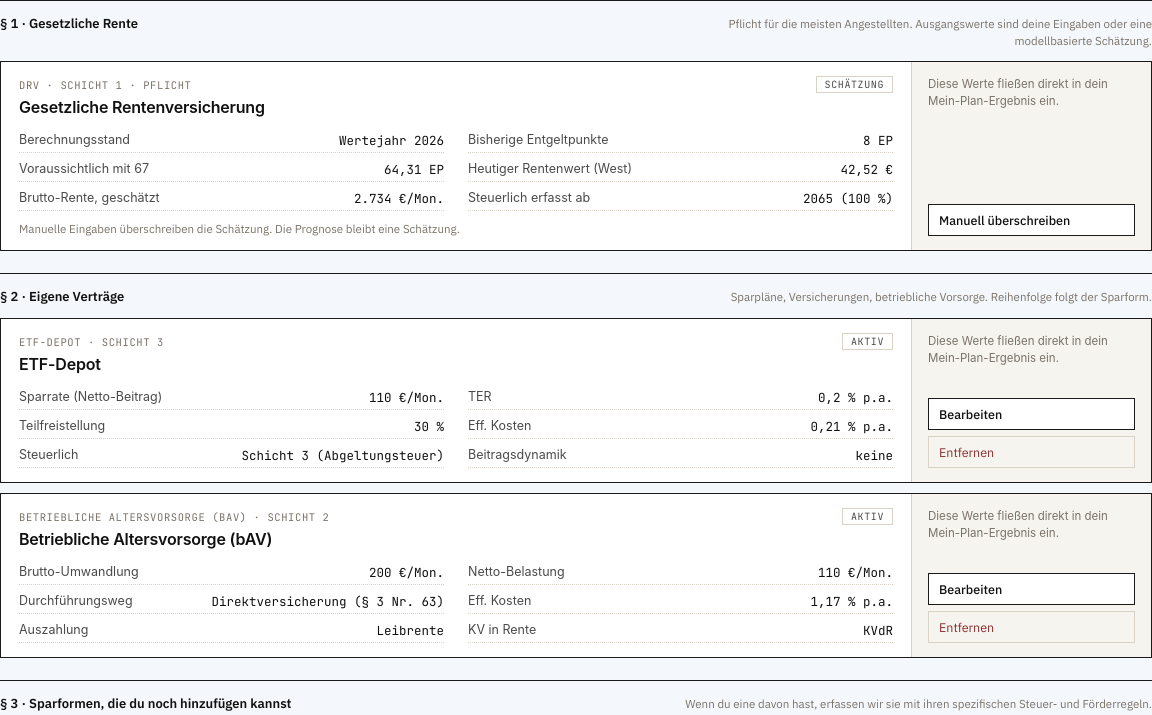
ProdukteEingabenPanel — § 1 DRV card (live data) › toggles the GRV override disclosure when "Manuell überschreiben" is clicked
Click the button "Manuell überschreiben" at coordinates (1032, 220), box top-left (928, 204), bottom-right (1135, 236)
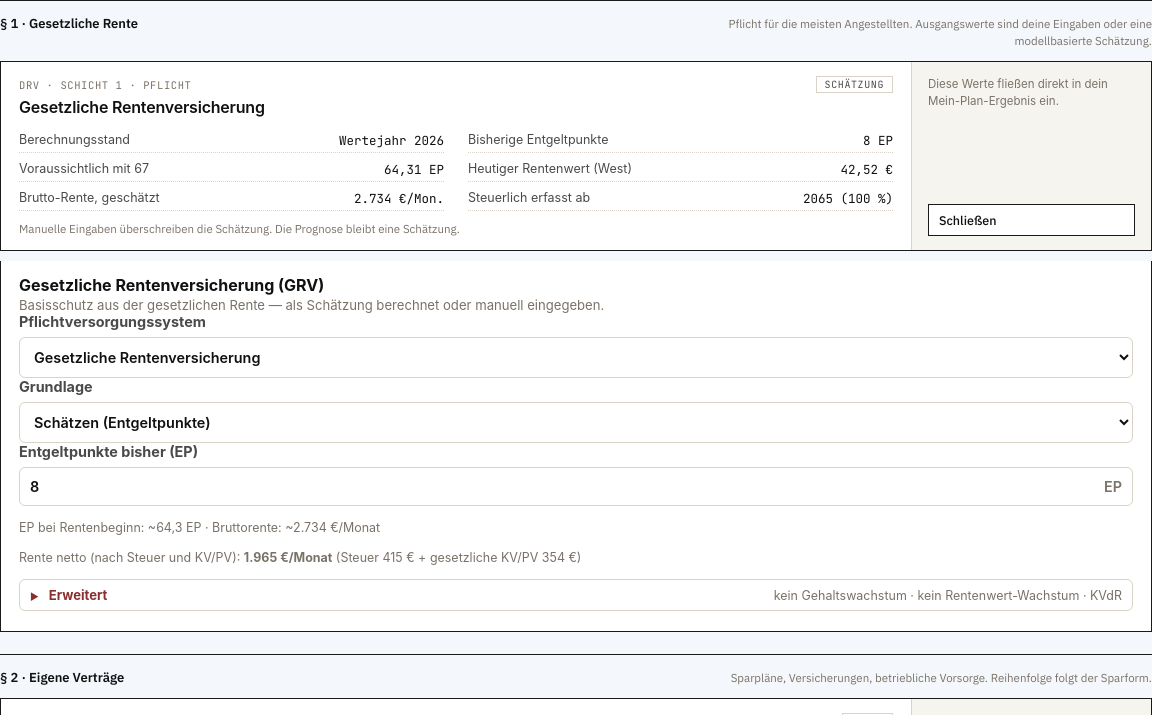
Now the element with test id "produkte-grv-disclosure" is shown, box top-left (0, 261), bottom-right (1151, 632)
